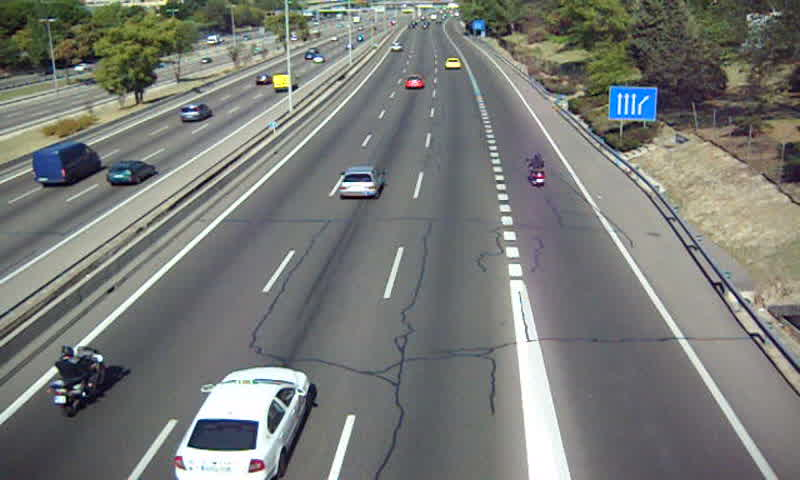car: (176, 366, 309, 480), (336, 166, 384, 198), (405, 74, 423, 92), (445, 58, 462, 69)
motorcycle: (47, 344, 104, 417), (528, 153, 548, 187)
